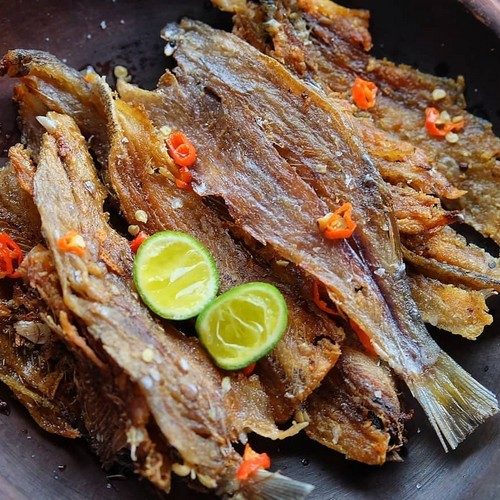sudang lepet: (7, 46, 452, 468)
